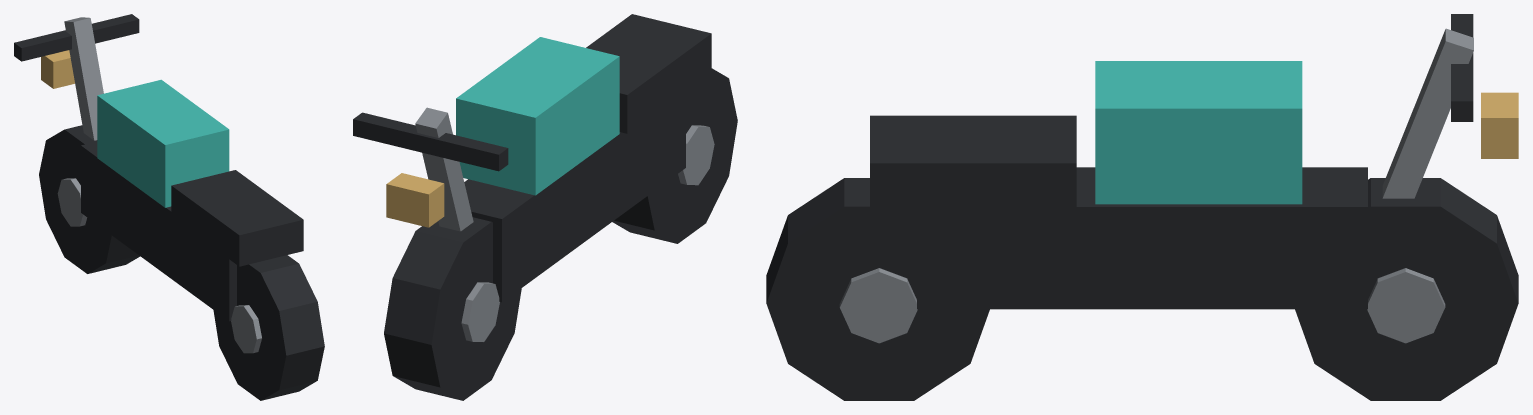
File: vehicle.motorcycle.glb
The picture shows the model from 3 angles, left to right: view 1: azimuth 30°, elevation 25°; view 2: azimuth 150°, elevation 25°; view 3: azimuth 270°, elevation 25°; orthographic projection. The views are drawn at different scales.
Visible parts, largest first — view 1: vehicle.motorcycle; view 2: vehicle.motorcycle; view 3: vehicle.motorcycle.
Part boxes in pixels (x1,y1,x2,y2): vehicle.motorcycle: (14, 14, 324, 400); vehicle.motorcycle: (353, 14, 737, 400); vehicle.motorcycle: (766, 14, 1518, 400).
Size of the model in its own units: 0.55 by 1.03 by 2.
